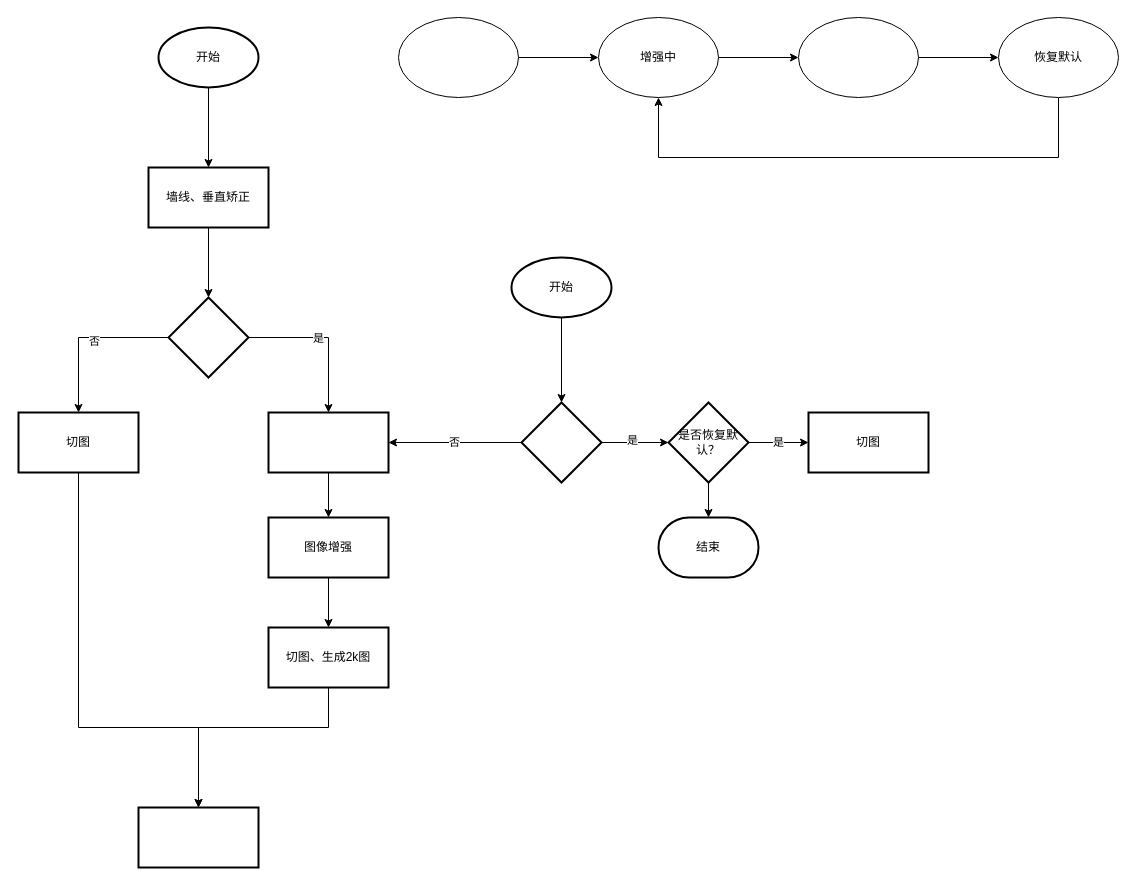
The diagram is 1136 pixels wide and 886 high, and some of its shapes have lost their labels. Here are the shapes that lost their labels. From the top down, the centre of each, then its label:
At point (458, 57): "未增强".
At point (858, 57): "已增强".
At point (208, 337): "全局增强？".
At point (328, 442): "原图应用垂直矫正".
At point (561, 442): "是否已增强？".
At point (198, 837): "重建预览".
